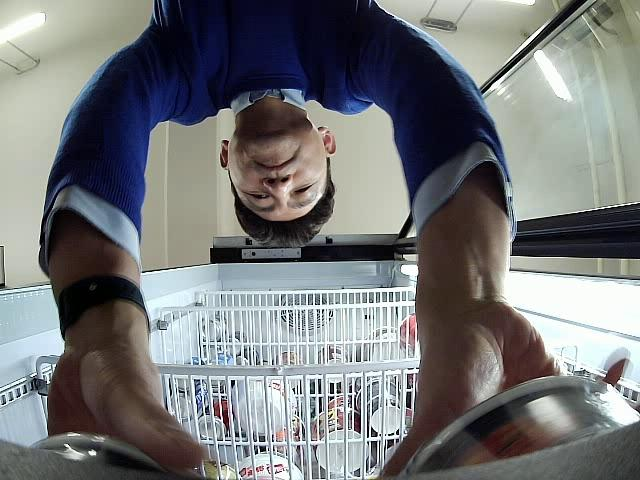00_hand: (378, 284, 629, 479), (47, 334, 209, 472)
07_buldak_L: (399, 376, 639, 480)
